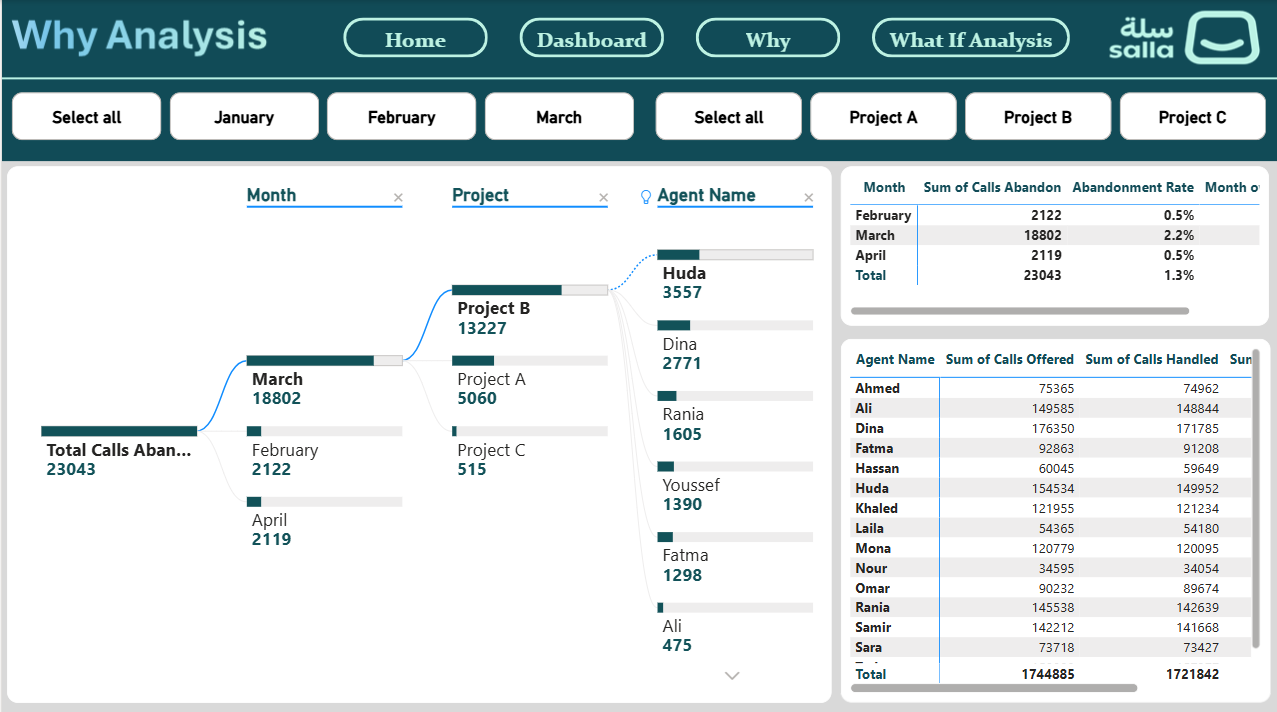

What the dashboard file says about the page in this screenshot:
{"tool":"powerbi","page":{"name":"Why","canvas":[1280,720],"ordinal":2},"visuals":[{"type":"actionButton","box":[519.1,17.9,145.2,40.2],"z":0},{"type":"actionButton","box":[342.3,17.9,145.2,40.2],"z":1000},{"type":"actionButton","box":[695.9,17.9,145.2,40.2],"z":2000},{"type":"actionButton","box":[872.7,17.9,198.8,40.2],"z":3000},{"type":"decompositionTreeVisual","fields":{"ExplainBy":["Dates.Date.Variation.Date Hierarchy.Month","Dataset.Project","Dataset.Agent Name"],"Analyze":["Dataset.Total Calls Abandon"]},"box":[5.6,166.4,827.4,538.2],"z":4000},{"type":"advancedSlicerVisual","fields":{"Values":["Dataset.Project"]},"box":[651,88.2,624.2,58.1],"z":5000},{"type":"advancedSlicerVisual","fields":{"Values":["Dates.Date.Variation.Date Hierarchy.Month"]},"box":[5.6,88.2,634.2,58.1],"z":6000},{"type":"pivotTable","fields":{"Rows":["Dates.Date.Variation.Date Hierarchy.Month"],"Values":["Sum(Dataset.Calls Abandon)","Dataset.Abandonment Rate","Dataset.Month over Month"]},"box":[840.8,166.4,429.9,159.7],"z":7000},{"type":"pivotTable","fields":{"Rows":["Dataset.Agent Name"],"Values":["Sum(Dataset.Calls Offered)","Sum(Dataset.Calls Handled)","Sum(Dataset.Calls Abandon)"]},"box":[840.8,339.5,431,365.1],"z":8000}]}

Visuals, with their boxes in screenshot pixels (x1, y1, x2, y2), scaled from the page's 1280x720 canvas onto the 1277x712 screenshot:
actionButton: x1=518, y1=18, x2=663, y2=57
actionButton: x1=341, y1=18, x2=486, y2=57
actionButton: x1=694, y1=18, x2=839, y2=57
actionButton: x1=871, y1=18, x2=1069, y2=57
decompositionTreeVisual - Dates.Date.Variation.Date Hierarchy.Month x Dataset.Project: x1=6, y1=165, x2=831, y2=697
advancedSlicerVisual - Dataset.Project: x1=649, y1=87, x2=1272, y2=145
advancedSlicerVisual - Dates.Date.Variation.Date Hierarchy.Month: x1=6, y1=87, x2=638, y2=145
pivotTable - Dates.Date.Variation.Date Hierarchy.Month x Sum(Dataset.Calls Abandon): x1=839, y1=165, x2=1268, y2=322
pivotTable - Dataset.Agent Name x Sum(Dataset.Calls Offered): x1=839, y1=336, x2=1269, y2=697
